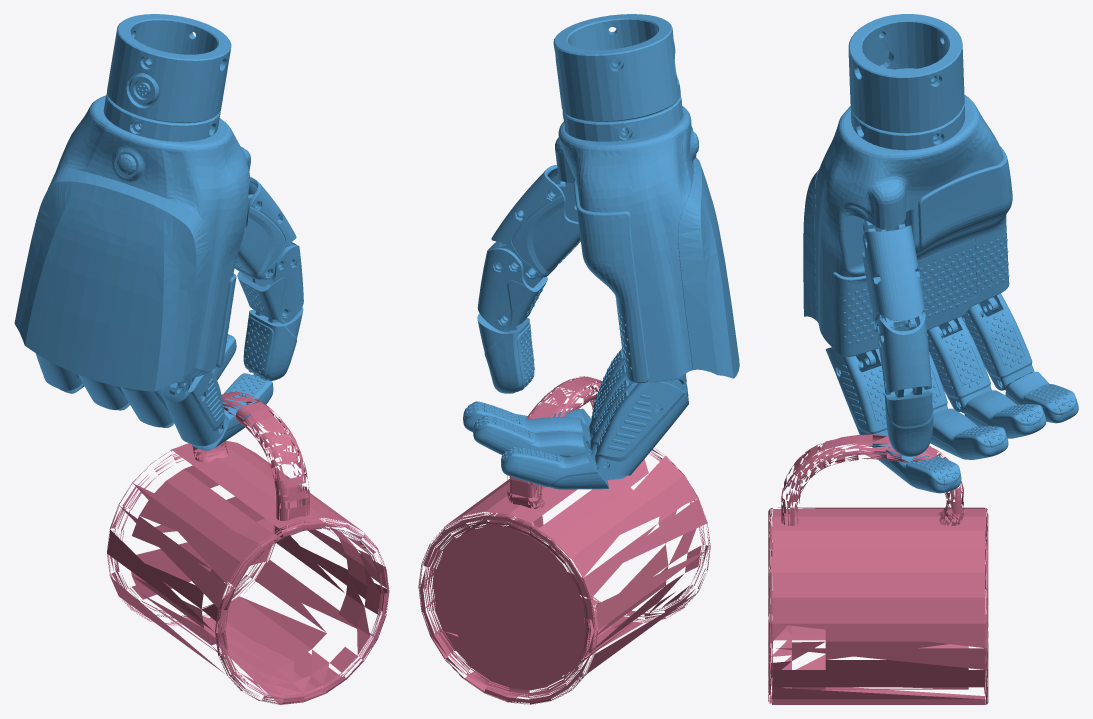
3 views of the same model, side by side, from view 1: azimuth 30°, elevation 25°; view 2: azimuth 150°, elevation 25°; view 3: azimuth 270°, elevation 25° (orthographic). The views are drawn at different scales.
Parts seen in each view (by area): view 1: 1; view 2: 1; view 3: 1.
Boxes of the visible parts, bbox=[...] form: 1: bbox=[14, 14, 389, 704]; 1: bbox=[418, 14, 739, 704]; 1: bbox=[768, 14, 1078, 704].
Size of the model in its own units: 0.1396 by 0.3042 by 0.1358.
